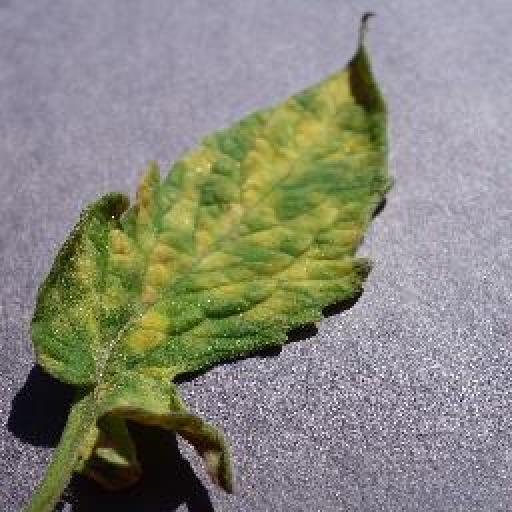disease_tomato: (36, 12, 398, 492)
